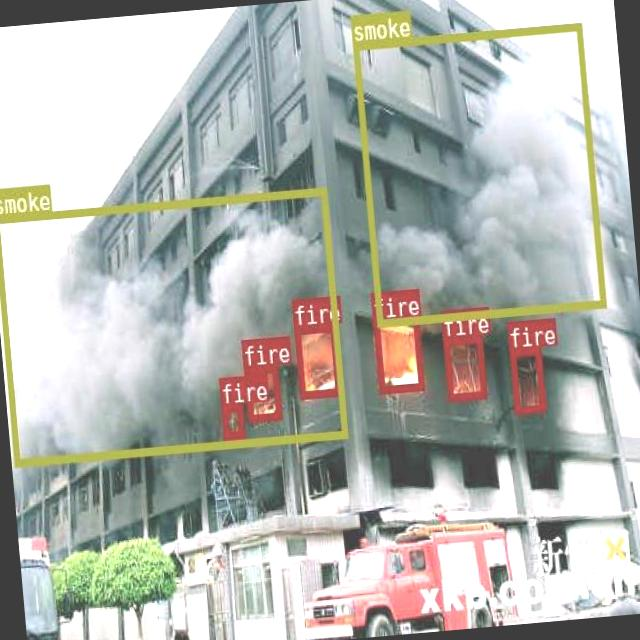fire: (371, 314, 422, 392), (293, 323, 340, 397), (442, 333, 486, 399), (507, 346, 545, 414), (242, 363, 280, 421), (220, 402, 243, 438)
smoke: (0, 186, 346, 465), (351, 21, 605, 325)
